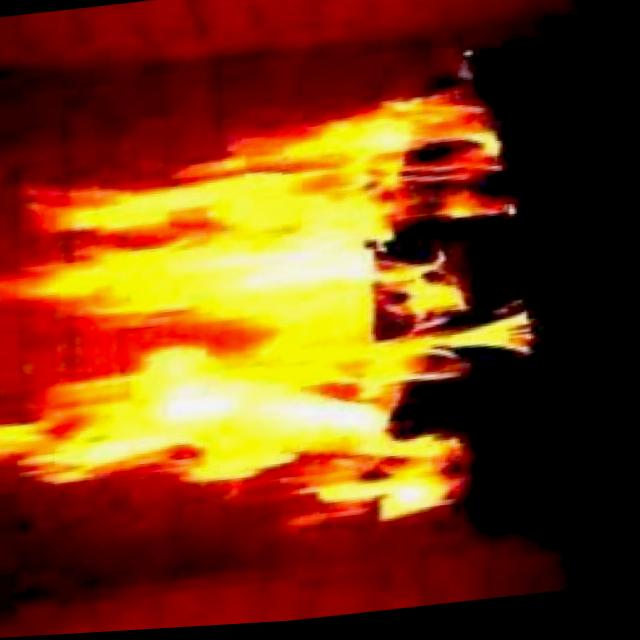helmet: (0, 73, 572, 574)
